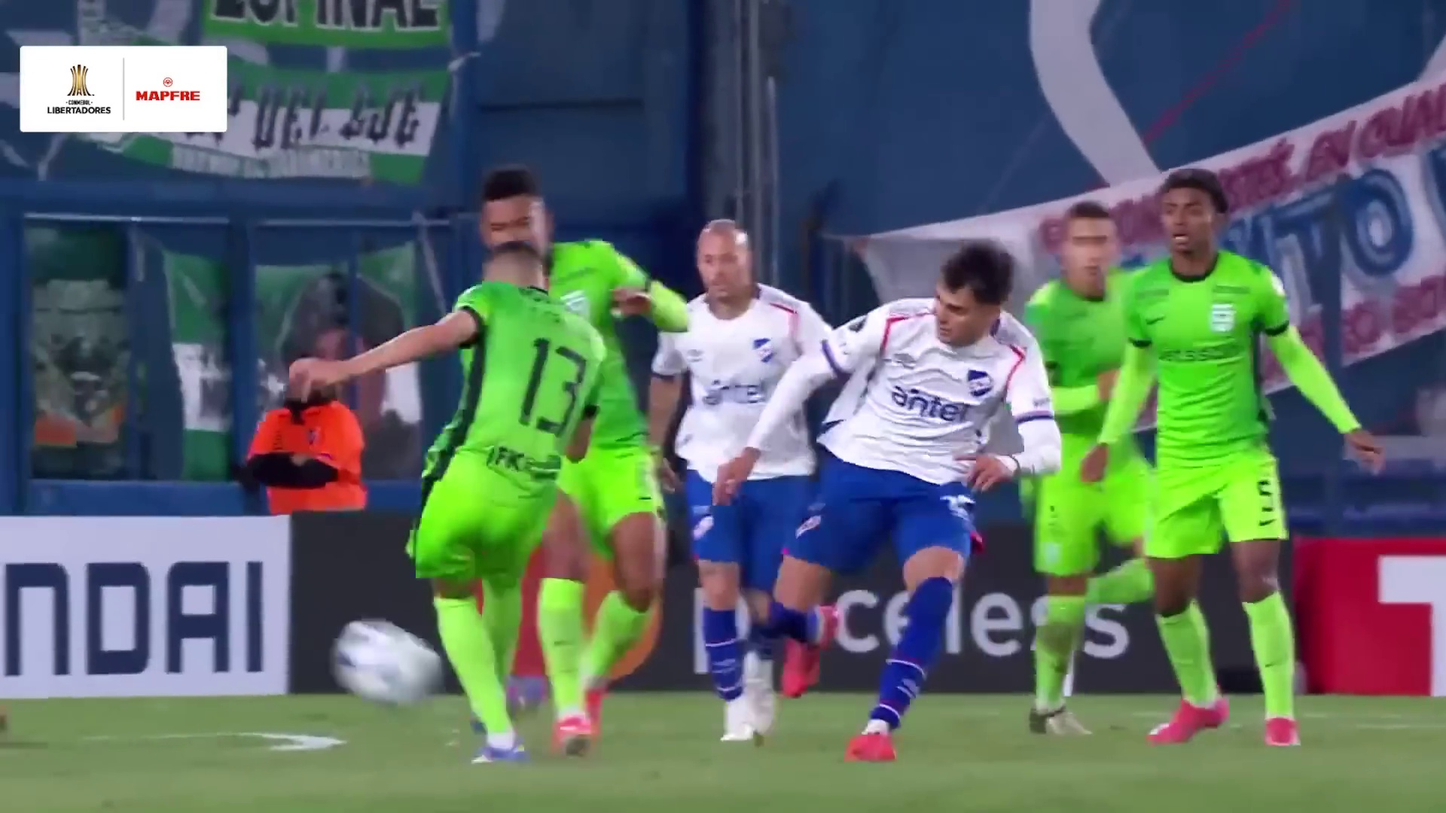ball: (328, 617, 454, 714)
player: (712, 223, 1063, 766), (1069, 168, 1388, 748), (277, 236, 616, 763), (475, 165, 691, 747), (986, 196, 1205, 739), (651, 211, 829, 747)
